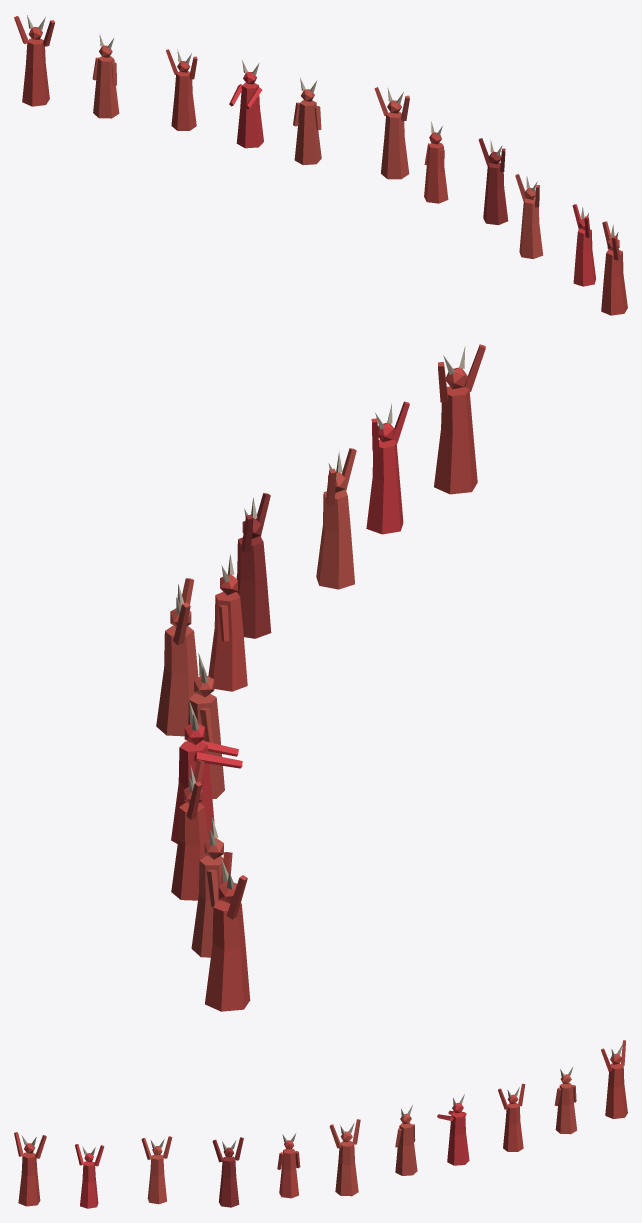
Rendered from Stands_7_1_0.obj.
3 views of the same model, one above another, from view 1: azimuth 30°, elevation 25°; view 2: azimuth 150°, elevation 25°; view 3: azimuth 270°, elevation 25° (orthographic). The views are drawn at different scales.
Parts seen in each view (by area): view 1: Stands_7_1_0; view 2: Stands_7_1_0; view 3: Stands_7_1_0.
Boxes of the visible parts, bbox=[...] form: Stands_7_1_0: bbox=[14, 15, 627, 315]; Stands_7_1_0: bbox=[156, 344, 485, 1011]; Stands_7_1_0: bbox=[14, 1040, 627, 1208].
Size of the model in its own units: 12.66 by 4.06 by 32.53.
1 material, 1 textured.
